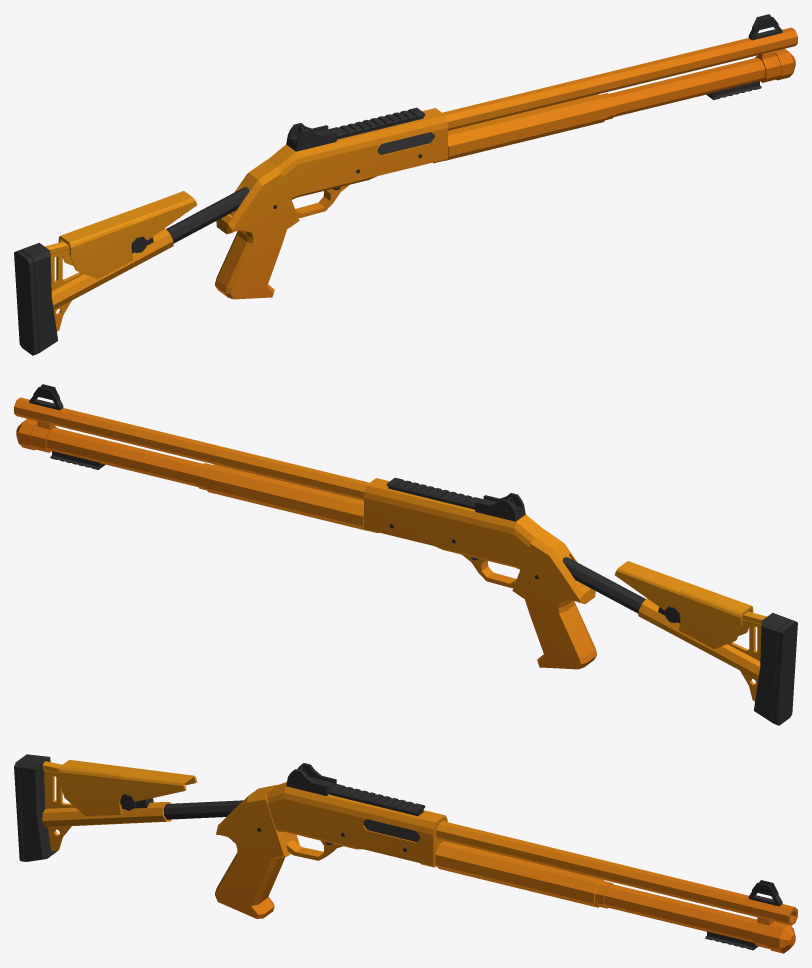
Rendered from Shotgun2_05.fbx.
The picture shows the model from 3 angles, top to bottom: view 1: azimuth 30°, elevation 25°; view 2: azimuth 150°, elevation 25°; view 3: azimuth 330°, elevation 25°; orthographic projection.
Visible parts, largest first — view 1: Shotgun2_05; view 2: Shotgun2_05; view 3: Shotgun2_05.
Boxes of the visible parts, x1,y1,x2,y2 form: Shotgun2_05: (14,14,797,355); Shotgun2_05: (14,384,797,725); Shotgun2_05: (14,754,797,953).
Size of the model in its own units: 1.21 by 0.235 by 0.0439.
